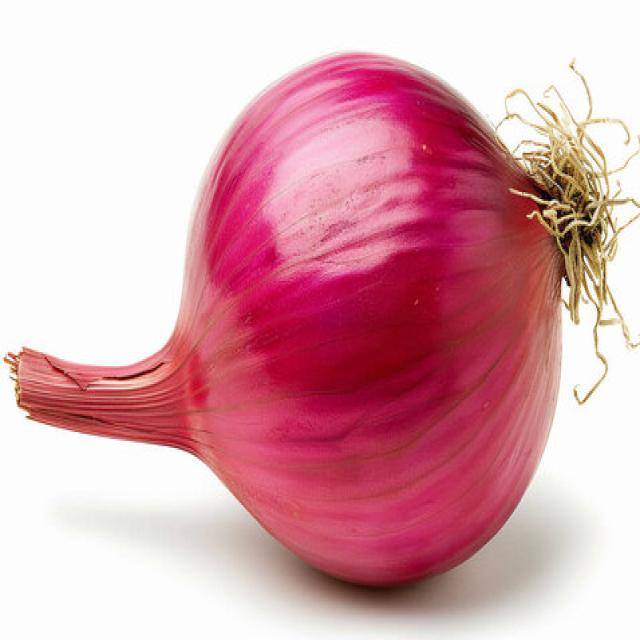Onion: (0, 29, 635, 572)
